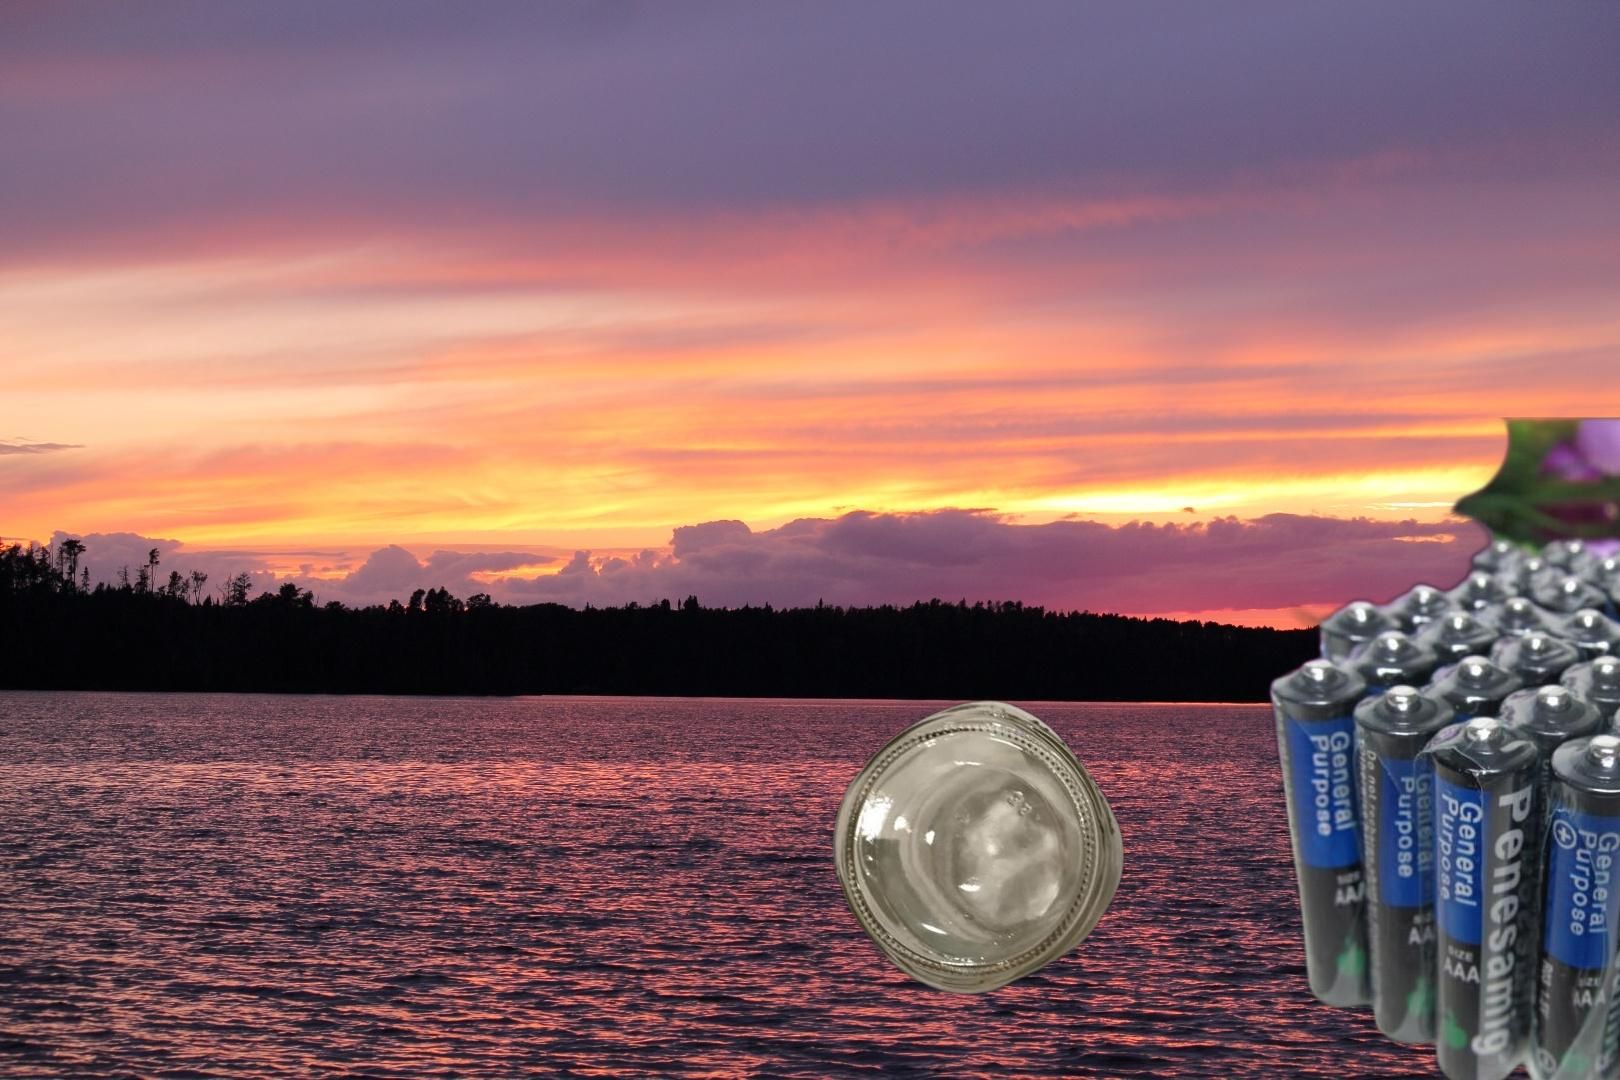battery: (1255, 417, 1620, 1080)
glass: (828, 697, 1129, 999)
paper: (1552, 714, 1620, 1028)
plastic-bottles: (796, 524, 1254, 1080)
